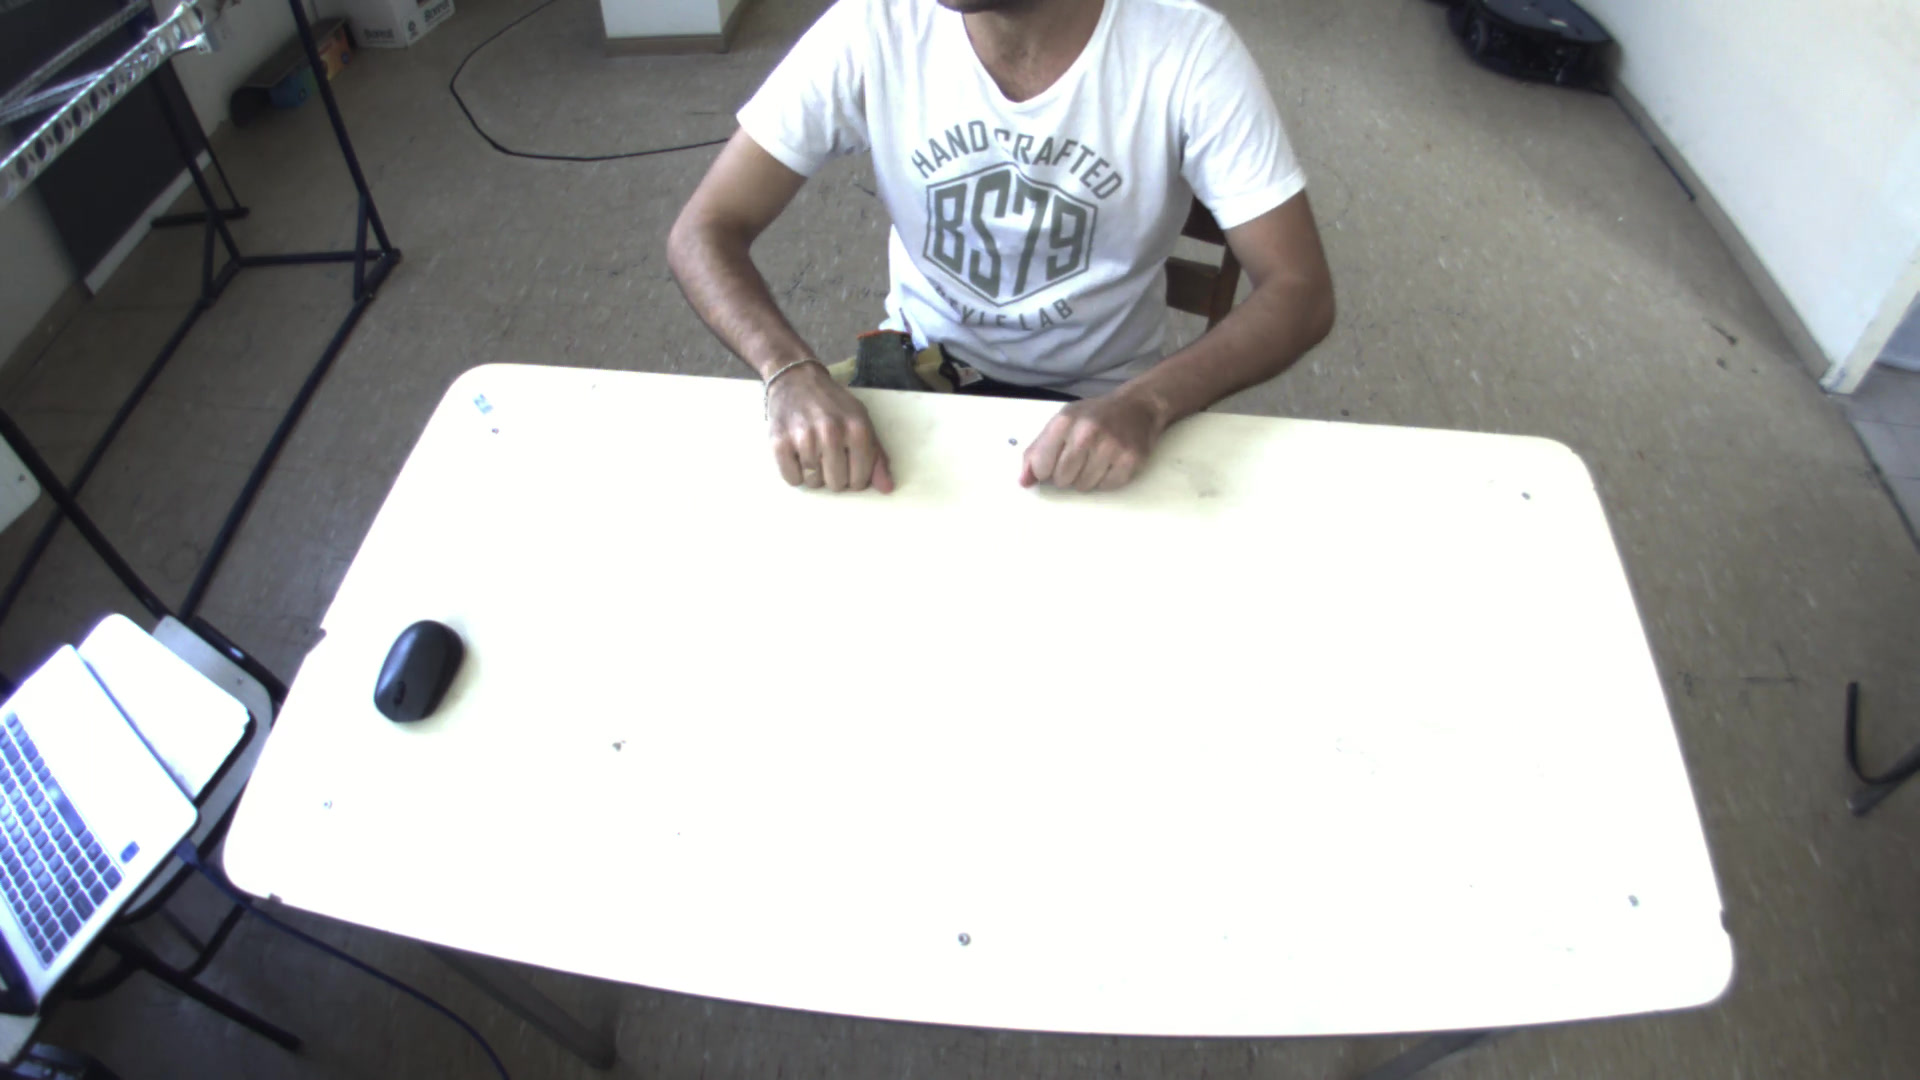hand: (745, 336, 902, 497), (1015, 377, 1170, 492)
